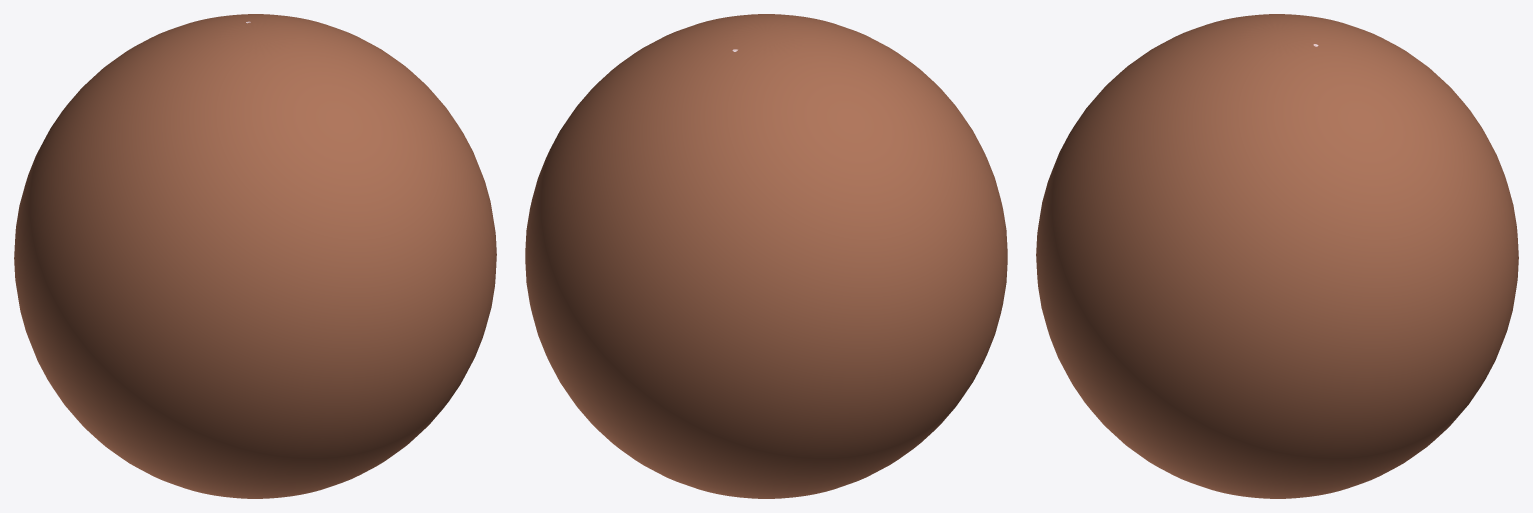
File: mars.glb
The picture shows the model from 3 angles, left to right: view 1: azimuth 30°, elevation 25°; view 2: azimuth 150°, elevation 25°; view 3: azimuth 270°, elevation 25°; orthographic projection.
Visible parts, largest first — view 1: Atmoshpere; view 2: Atmoshpere; view 3: Atmoshpere.
Boxes of the visible parts, box(x1,y1,x2,y2) form: Atmoshpere: box(14, 14, 496, 498); Atmoshpere: box(525, 14, 1007, 498); Atmoshpere: box(1036, 14, 1518, 498).
Size of the model in its own units: 1.32 by 1.34 by 1.32.
2 materials, 1 textured.
